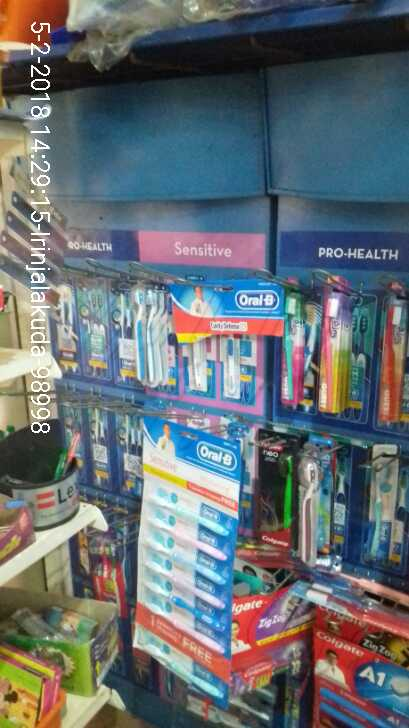oralb: (132, 282, 149, 381)
